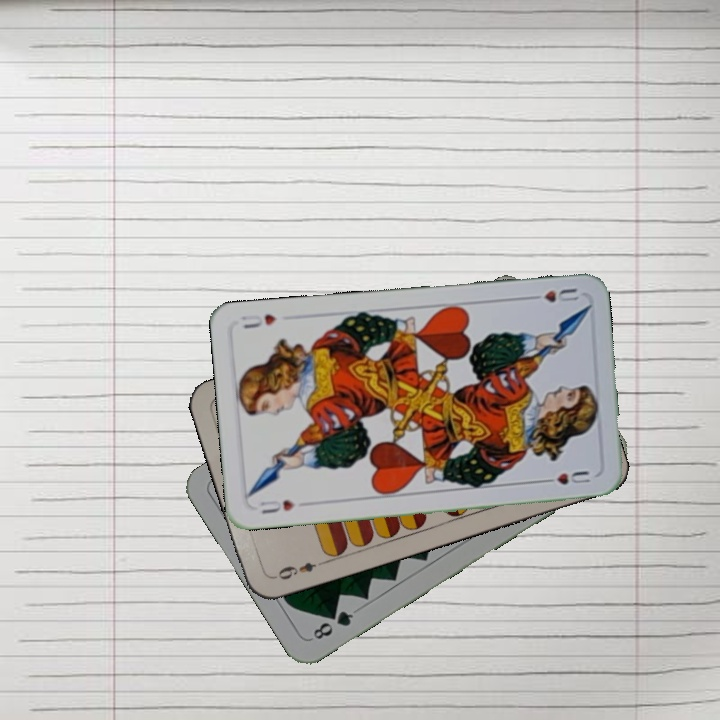E9: (270, 558, 319, 583)
G8: (308, 607, 357, 642)
HU: (523, 284, 581, 308), (256, 496, 297, 516)
